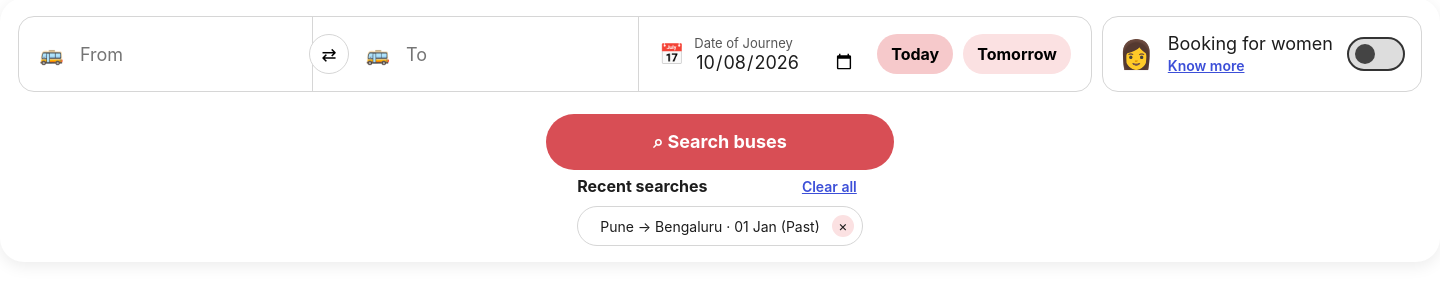
SearchCard › fills From and To but sets today for a past recent search
Click the button "Pune → Bengaluru · 01 Jan (Past)".
click(710, 226)  # box top-left (594, 216), bottom-right (826, 236)
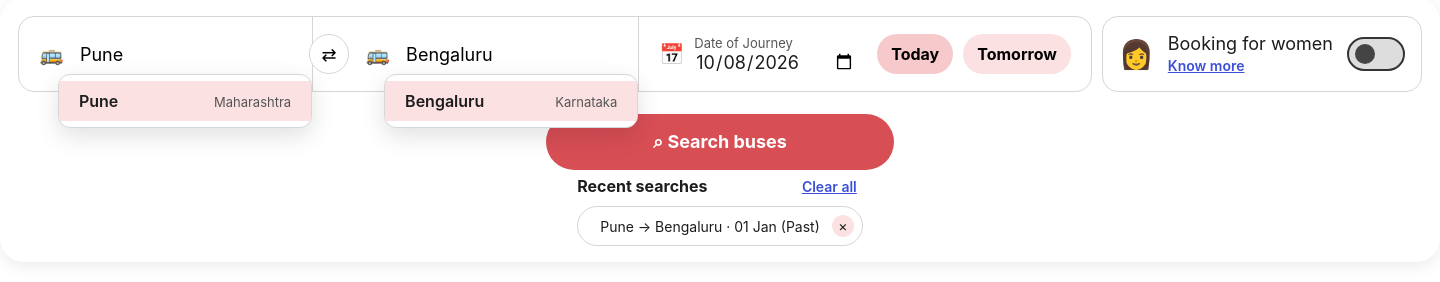
Expected: the dropdown named "From" holds "Pune", top-left (78, 42), bottom-right (292, 66)
Expected: the dropdown named "To" holds "Bengaluru", top-left (404, 42), bottom-right (618, 66)
